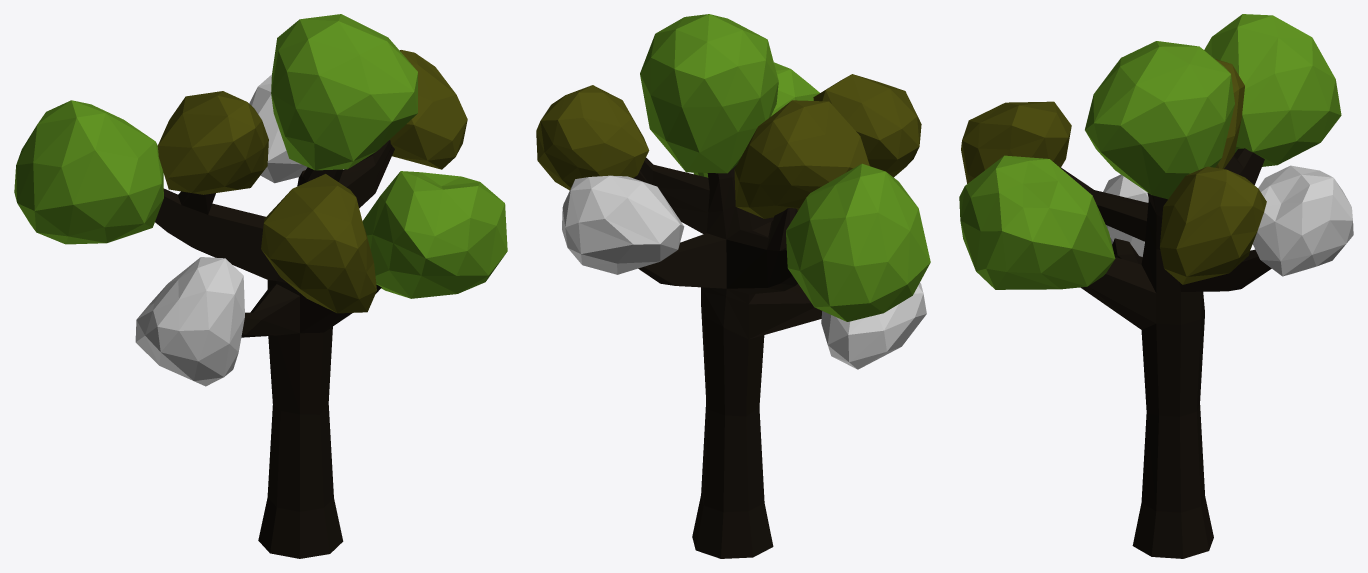
The model's file is tree.obj.
The picture shows the model from 3 angles, left to right: view 1: azimuth 30°, elevation 25°; view 2: azimuth 150°, elevation 25°; view 3: azimuth 270°, elevation 25°; orthographic projection.
Visible parts, largest first — view 1: Arbre_Normal_Cylinder.002; view 2: Arbre_Normal_Cylinder.002; view 3: Arbre_Normal_Cylinder.002.
Part boxes in pixels (<box>): Arbre_Normal_Cylinder.002: <box>14,14,507,558</box>; Arbre_Normal_Cylinder.002: <box>536,14,930,558</box>; Arbre_Normal_Cylinder.002: <box>959,14,1353,558</box>.
Size of the model in its own units: 3.18 by 3.92 by 2.75.
